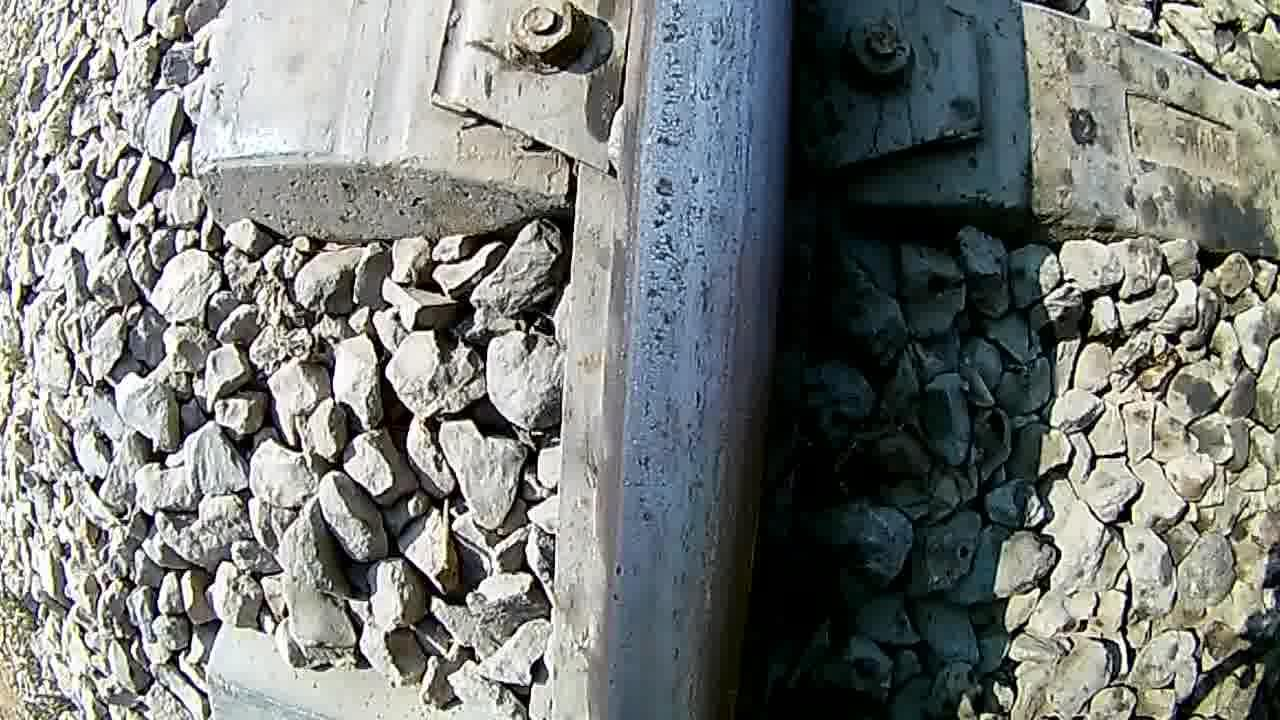crack: (592, 0, 784, 720)
